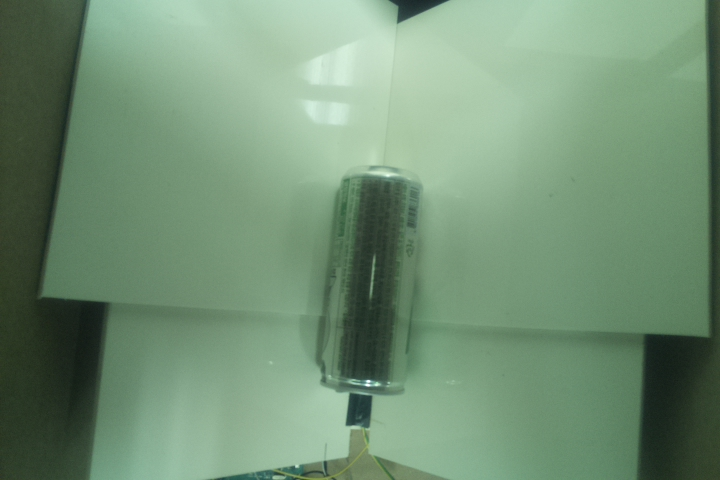can: (316, 162, 423, 398)
